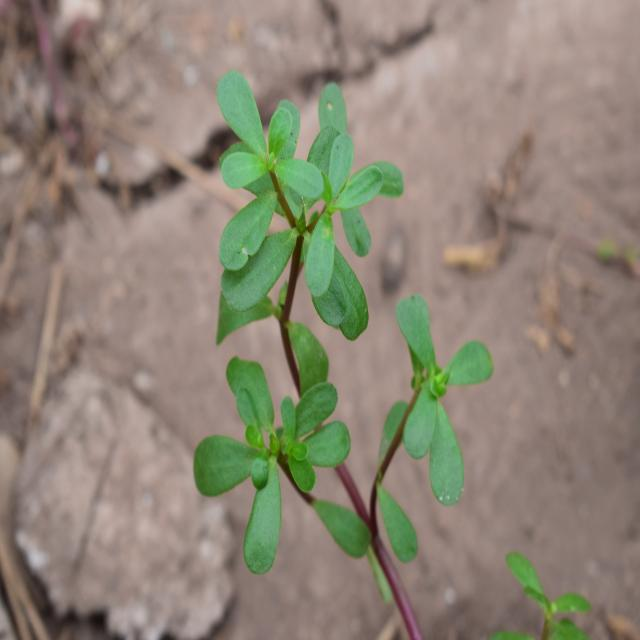purslane: (172, 53, 498, 549)
